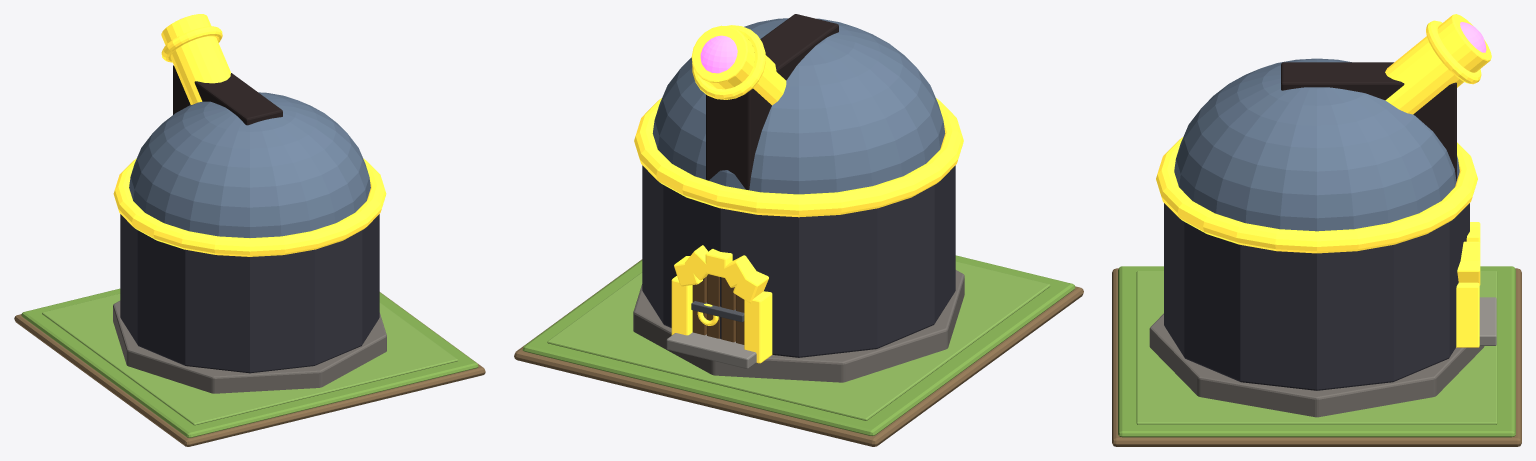
Rendered from star_laboratory_lv7.glb.
3 renders of one model, left to right at view 1: azimuth 30°, elevation 25°; view 2: azimuth 150°, elevation 25°; view 3: azimuth 270°, elevation 25°, orthographic. The views are drawn at different scales.
Visible parts, largest first — view 1: SL_Drum, SL_ObservatoryDome, Base_Inner, Base_Grass, SL_Plinth, SL_DomeTrack, Base_Dirt, TelescopeTubeMain, SL_DomeSlitArch, TelescopeCollar; view 2: SL_Drum, SL_ObservatoryDome, Base_Inner, Base_Grass, SL_DomeTrack, SL_Plinth, SL_DomeSlitArch, Base_Dirt, TelescopeTubeMain, DoorStep, DoorPillar_-1, TelescopeCollar (+9 smaller); view 3: SL_Drum, SL_ObservatoryDome, Base_Inner, Base_Grass, SL_DomeTrack, SL_Plinth, Base_Dirt, SL_DomeSlitArch, TelescopeTubeMain, DoorPillar_1, TelescopeCollar, DoorStep (+2 smaller).
Part boxes in pixels (x1,y1,x2,y2): SL_Drum: (120, 214, 379, 373); SL_ObservatoryDome: (129, 92, 370, 237); Base_Inner: (42, 293, 457, 425); Base_Grass: (21, 288, 478, 437); SL_Plinth: (113, 301, 386, 393); SL_DomeTrack: (113, 158, 386, 256); Base_Dirt: (14, 292, 485, 446); TelescopeTubeMain: (161, 14, 230, 104); SL_DomeSlitArch: (173, 65, 282, 125); TelescopeCollar: (161, 26, 222, 62); SL_Drum: (642, 165, 955, 357); SL_ObservatoryDome: (652, 18, 945, 194); Base_Inner: (547, 261, 1050, 420); Base_Grass: (522, 255, 1075, 435); SL_DomeTrack: (634, 98, 963, 217); SL_Plinth: (633, 270, 964, 382); SL_DomeSlitArch: (706, 14, 838, 190); Base_Dirt: (514, 259, 1083, 446); TelescopeTubeMain: (691, 25, 786, 105); DoorStep: (666, 332, 756, 368); DoorPillar_-1: (744, 291, 772, 363); TelescopeCollar: (692, 25, 765, 99); SL_Drum: (1164, 203, 1469, 390); SL_ObservatoryDome: (1174, 58, 1459, 231); Base_Inner: (1136, 271, 1497, 424); Base_Grass: (1118, 266, 1515, 437); SL_DomeTrack: (1156, 137, 1477, 253); SL_Plinth: (1149, 313, 1484, 417); Base_Dirt: (1112, 268, 1521, 446); SL_DomeSlitArch: (1281, 62, 1456, 180); TelescopeTubeMain: (1385, 14, 1491, 114); DoorPillar_1: (1456, 282, 1479, 347); TelescopeCollar: (1426, 20, 1481, 84); DoorStep: (1479, 297, 1496, 345).
Size of the model in its own units: 2.76 by 2.56 by 2.76.
